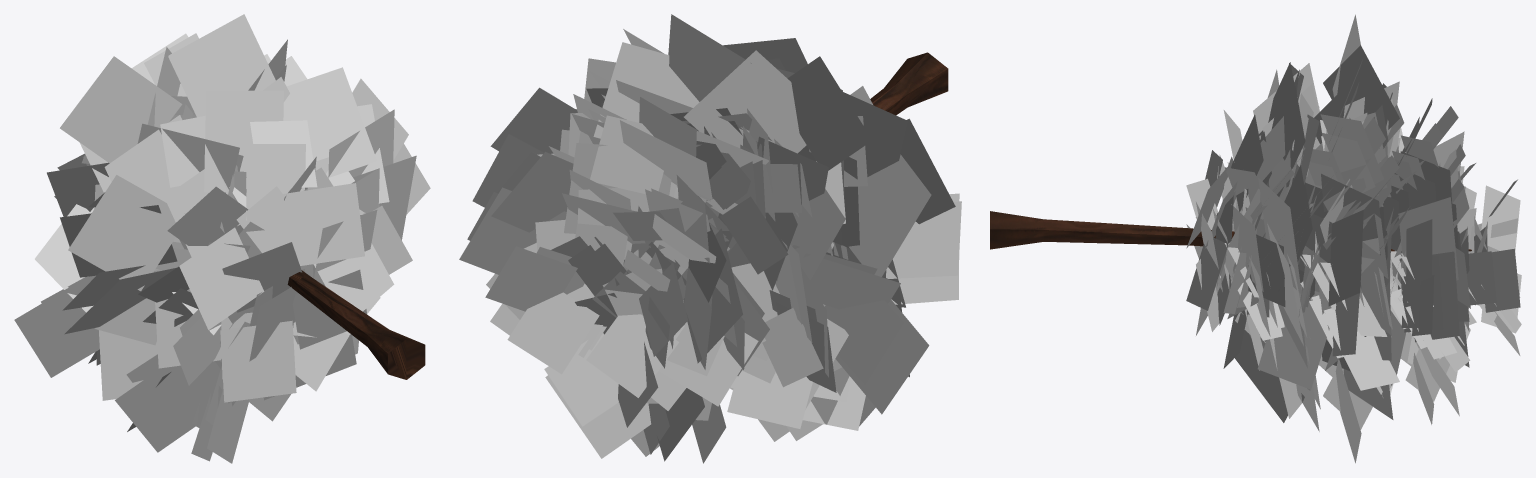
File: rBTreeNew.fbx
3 views of the same model, side by side, from view 1: azimuth 30°, elevation 25°; view 2: azimuth 150°, elevation 25°; view 3: azimuth 270°, elevation 25° (orthographic). The views are drawn at different scales.
Visible parts, largest first — view 1: Cylinder.001; view 2: Cylinder.001; view 3: Cylinder.001.
Boxes of the visible parts, <box> form: Cylinder.001: <box>14,14,430,463</box>; Cylinder.001: <box>459,14,961,463</box>; Cylinder.001: <box>990,14,1521,463</box>.
Size of the model in its own units: 1316 by 1244 by 1557.
